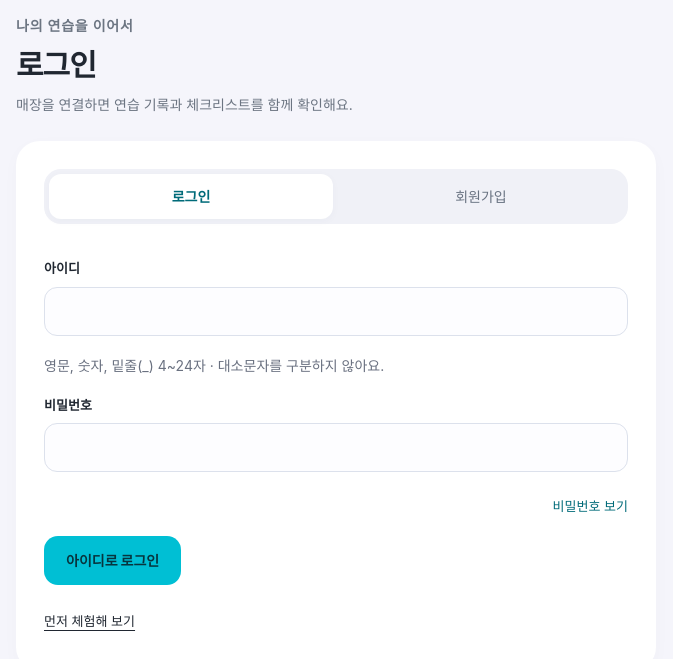
Test case: blocks signup entirely when email confirmation is enabled
Step 1. Click the button "회원가입" → (481, 197), box [339,174,623,219]
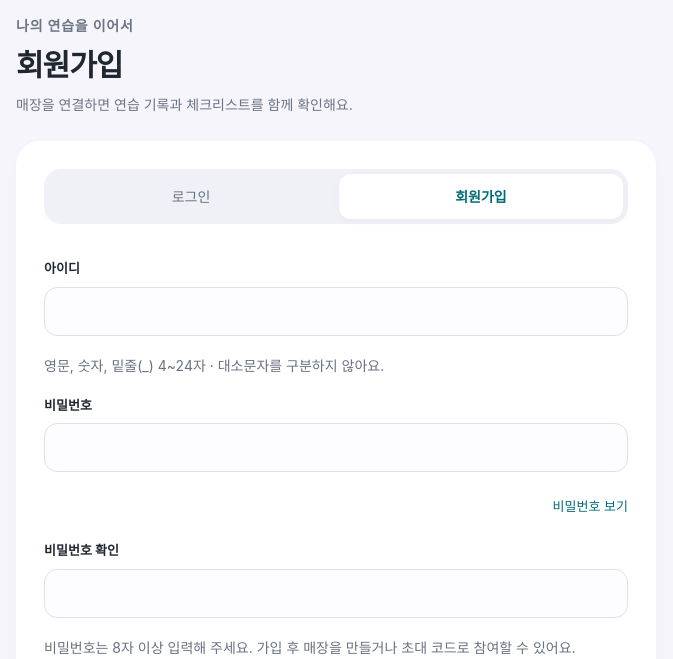
Step 2. Type "My_ID" into the field labelled "아이디" → (336, 311), box [44,287,628,336]
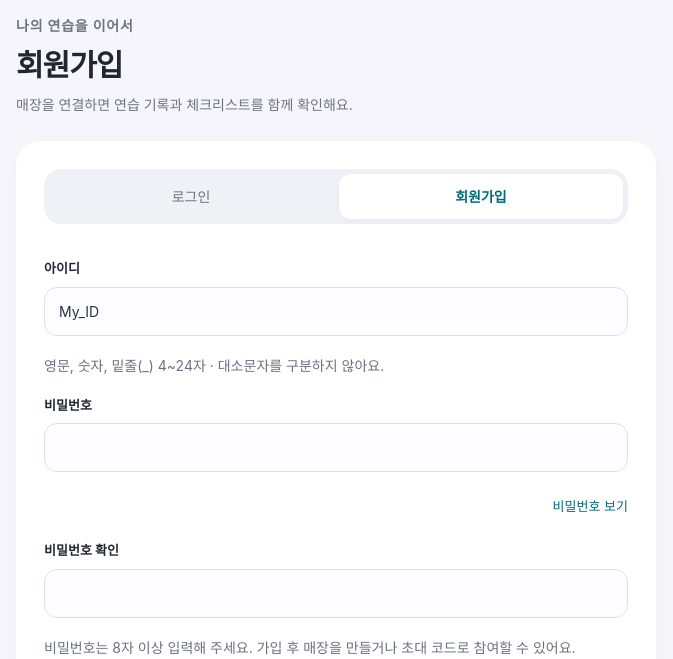
Step 3. Type "test-password-123" into the password field labelled "비밀번호" → (336, 448), box [44,423,628,472]
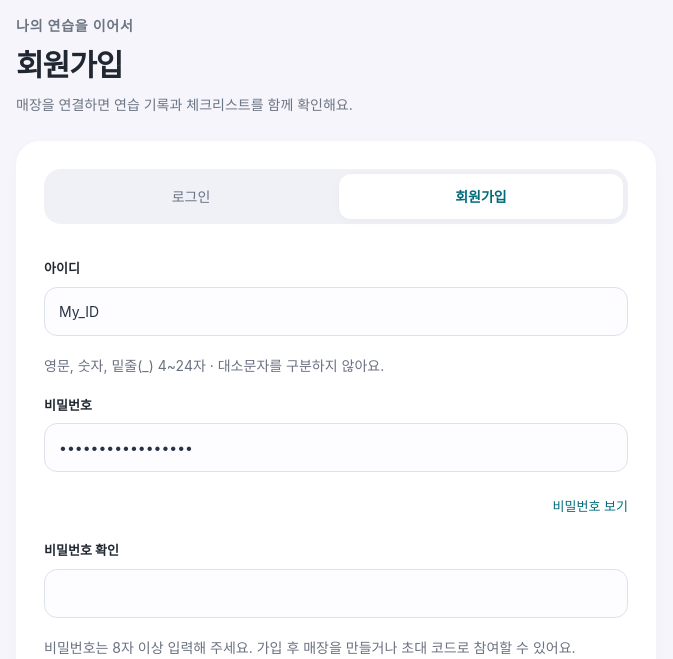
Step 4. Type "test-password-123" into the password field labelled "비밀번호 확인" → (336, 593), box [44,569,628,618]
(page scrolled)
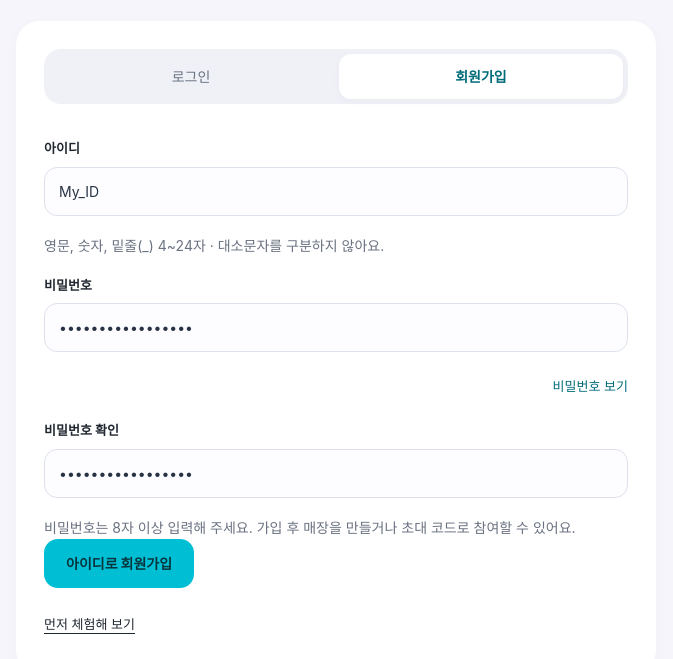
Step 5. Click the button "아이디로 회원가입" → (119, 564), box [44,539,194,588]
(page scrolled)
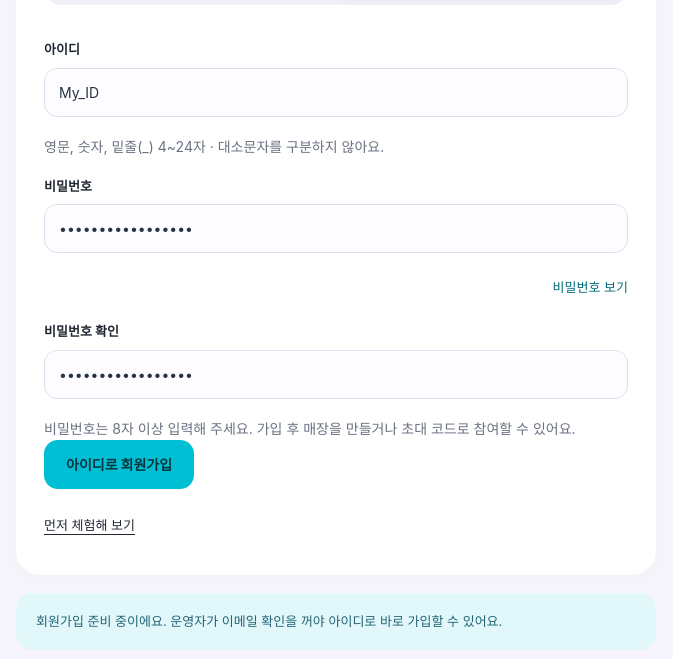
Now the text "회원가입 준비 중이에요. 운영자가 이메일 확인을 꺼야 아이디로 바로 가입할 수 있어요." is shown, box [16,592,656,650]
